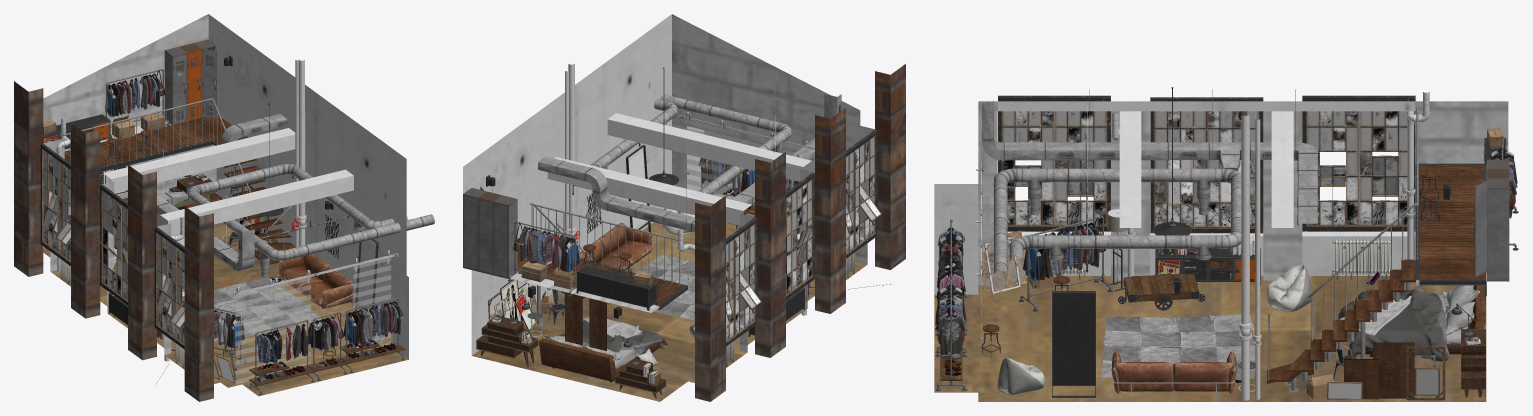
Rendered from home.glb.
The picture shows the model from 3 angles, left to right: view 1: azimuth 30°, elevation 25°; view 2: azimuth 150°, elevation 25°; view 3: azimuth 270°, elevation 25°; orthographic projection. The views are drawn at different scales.
Visible parts, largest first — view 1: home_home_089_Room_Bricks_Ext, home_home_086_Room_Walls, home_home_088_Room_Ceiling, home_home_087_Room_Bricks_ White, home_home_090_Room_Floor, home_home_039_Window_Glass, home_home_047_Window, home_home_012_Ventilation, home_home_015_Door_Glass_Glass, home_home_077_LockerWardrobe, home_home_052_Carpet, home_home_100_Mezzanine (+23 smaller); view 2: home_home_089_Room_Bricks_Ext, home_home_086_Room_Walls, home_home_087_Room_Bricks_ White, home_home_090_Room_Floor, home_home_088_Room_Ceiling, home_home_039_Window_Glass, home_home_047_Window, home_home_077_LockerWardrobe, home_home_000_Ventilation2, home_home_012_Ventilation, home_home_002_SideBoard, home_home_044_Bed_Base (+24 smaller); view 3: home_home_090_Room_Floor, home_home_039_Window_Glass, home_home_087_Room_Bricks_ White, home_home_086_Room_Walls, home_home_047_Window, home_home_012_Ventilation, home_home_100_Mezzanine, home_home_000_Ventilation2, home_home_052_Carpet, home_home_063_Stair, home_home_088_Room_Ceiling, home_home_099_Bed (+24 smaller).
Boxes of the visible parts, box(x1,y1,x2,y2) form: home_home_089_Room_Bricks_Ext: box(14, 81, 213, 401); home_home_086_Room_Walls: box(208, 14, 408, 359); home_home_088_Room_Ceiling: box(103, 128, 353, 234); home_home_087_Room_Bricks_ White: box(43, 14, 216, 354); home_home_090_Room_Floor: box(43, 220, 408, 396); home_home_039_Window_Glass: box(43, 150, 184, 343); home_home_047_Window: box(40, 143, 184, 349); home_home_012_Ventilation: box(187, 164, 434, 277); home_home_015_Door_Glass_Glass: box(235, 257, 391, 384); home_home_077_LockerWardrobe: box(164, 39, 216, 124); home_home_052_Carpet: box(214, 277, 321, 336); home_home_100_Mezzanine: box(64, 115, 231, 171); home_home_089_Room_Bricks_Ext: box(695, 64, 905, 401); home_home_086_Room_Walls: box(463, 14, 814, 355); home_home_087_Room_Bricks_ White: box(511, 14, 874, 352); home_home_090_Room_Floor: box(472, 213, 866, 401); home_home_088_Room_Ceiling: box(547, 113, 811, 225); home_home_039_Window_Glass: box(726, 136, 880, 340); home_home_047_Window: box(726, 129, 881, 346); home_home_077_LockerWardrobe: box(463, 186, 517, 278); home_home_000_Ventilation2: box(538, 94, 841, 232); home_home_012_Ventilation: box(590, 94, 791, 194); home_home_002_SideBoard: box(576, 265, 804, 336); home_home_044_Bed_Base: box(538, 338, 659, 382); home_home_090_Room_Floor: box(934, 276, 1486, 401); home_home_039_Window_Glass: box(1002, 111, 1407, 226); home_home_087_Room_Bricks_ White: box(978, 101, 1508, 285); home_home_086_Room_Walls: box(934, 101, 1415, 294); home_home_047_Window: box(998, 95, 1415, 233); home_home_012_Ventilation: box(993, 168, 1241, 275); home_home_100_Mezzanine: box(1415, 163, 1486, 285); home_home_000_Ventilation2: box(981, 100, 1318, 228); home_home_052_Carpet: box(1101, 314, 1255, 378); home_home_063_Stair: box(1267, 107, 1418, 392); home_home_088_Room_Ceiling: box(1119, 111, 1293, 227); home_home_099_Bed: box(1347, 285, 1479, 361).
Size of the model in its own units: 7.46 by 6.09 by 10.65.
Materials: 102 (92 with a texture image).
